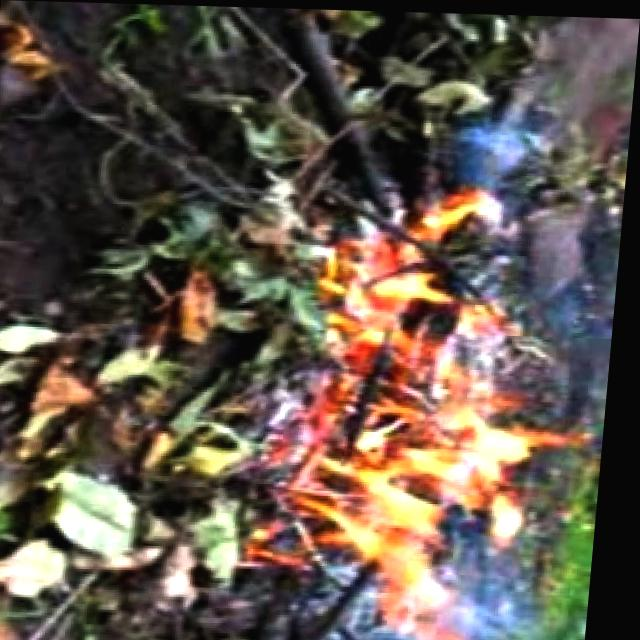helmet: (234, 180, 619, 640)
